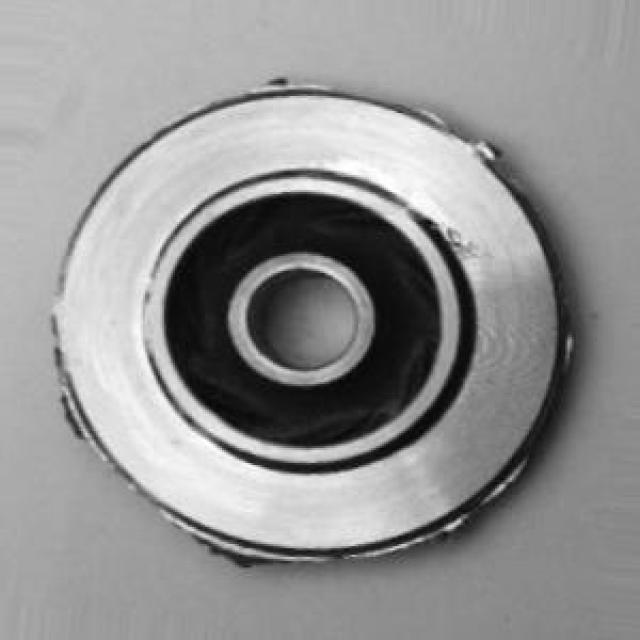Defect: (467, 120, 513, 173)
